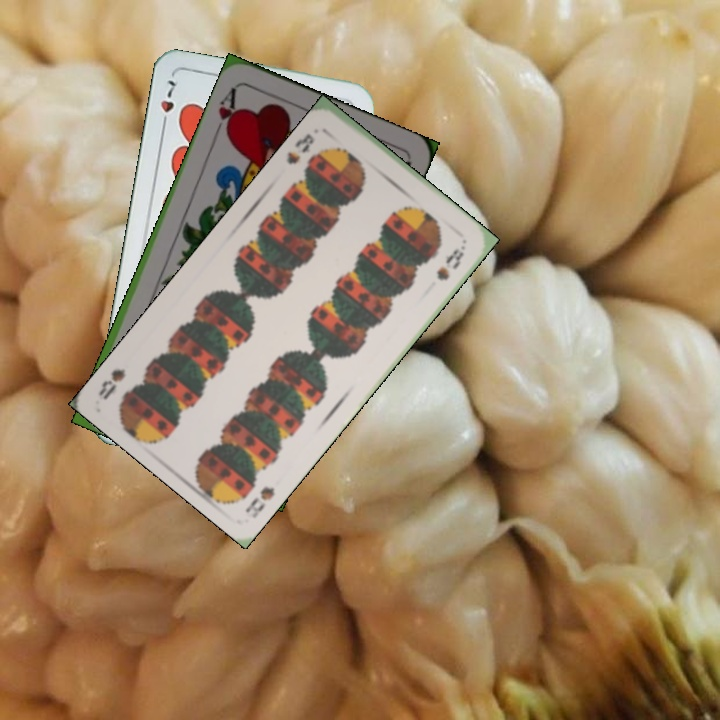H7: (156, 75, 178, 133)
HA: (209, 83, 242, 140)
S8: (241, 482, 278, 521), (282, 129, 317, 167)
